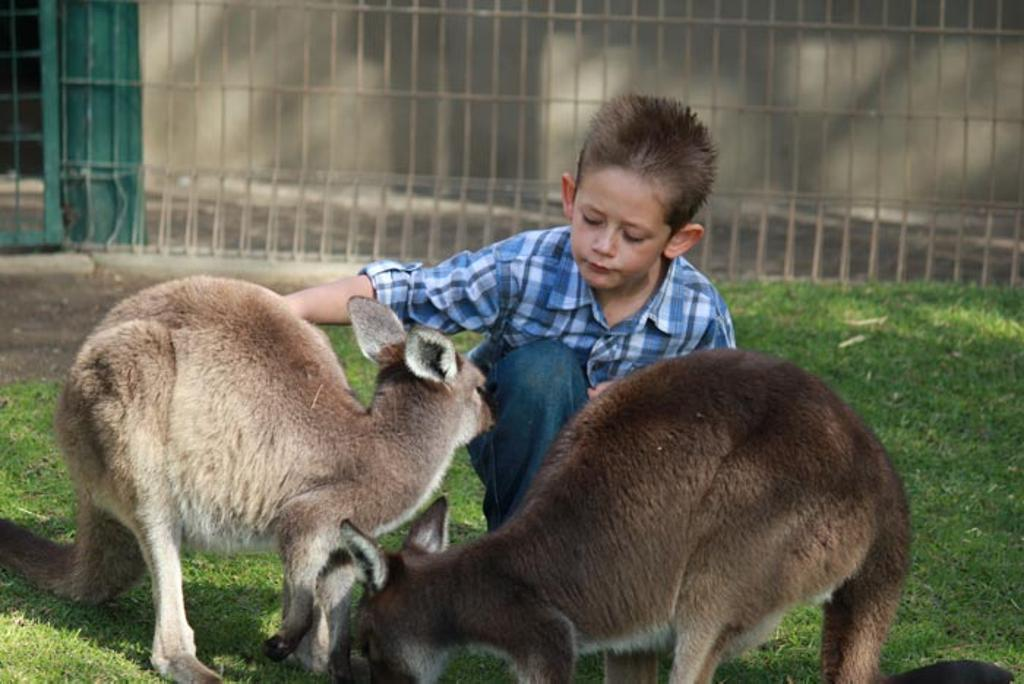face: (576, 166, 668, 286)
